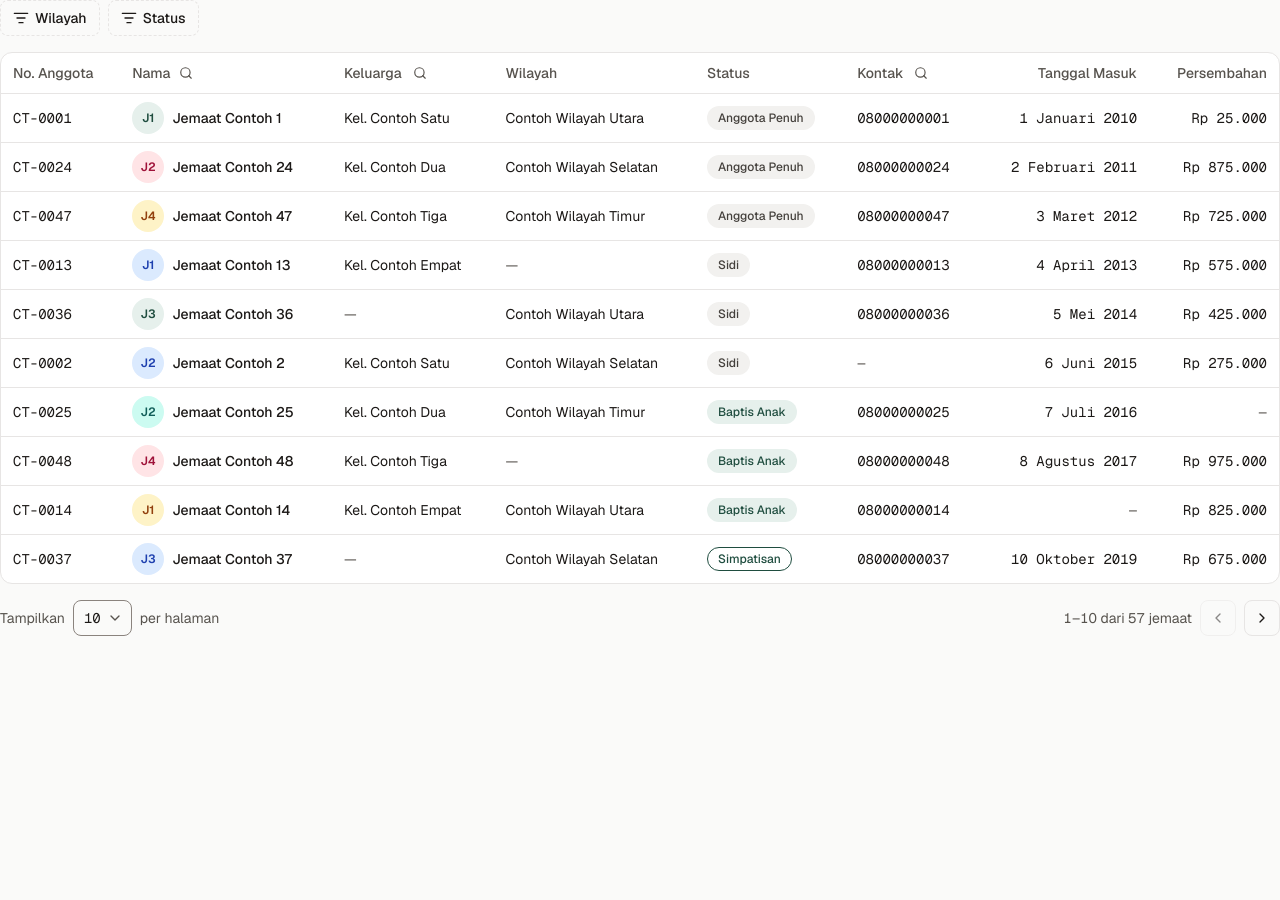
it: filters › says when filters hide every row, and resets from there
Click the button named "Cari Nama".
click(186, 73)  # box [172,59,200,87]
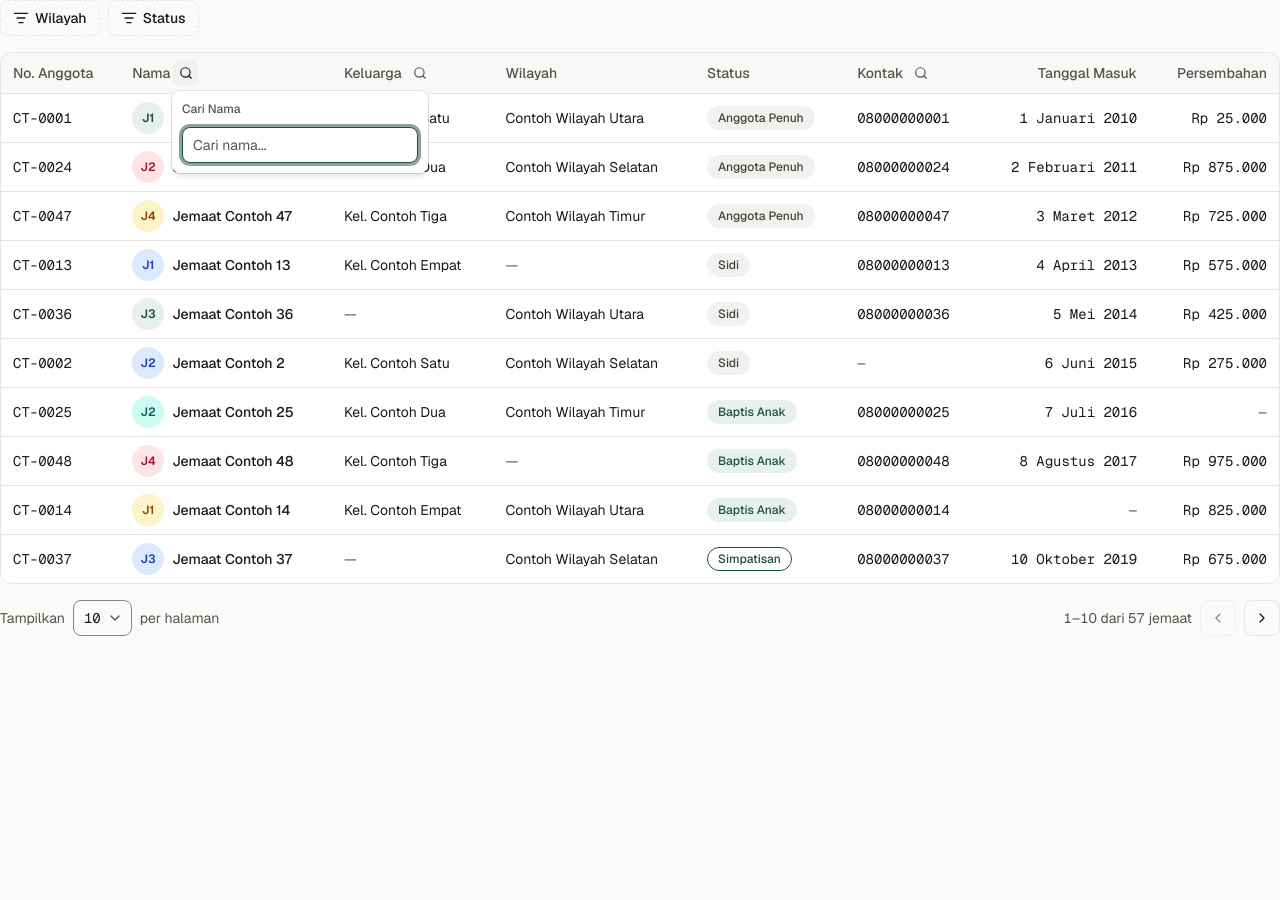
Type "tidak ada yang cocok" into the search field labelled "Cari Nama".
click(300, 145); type("tidak ada yang cocok")  # box [182,127,418,163]
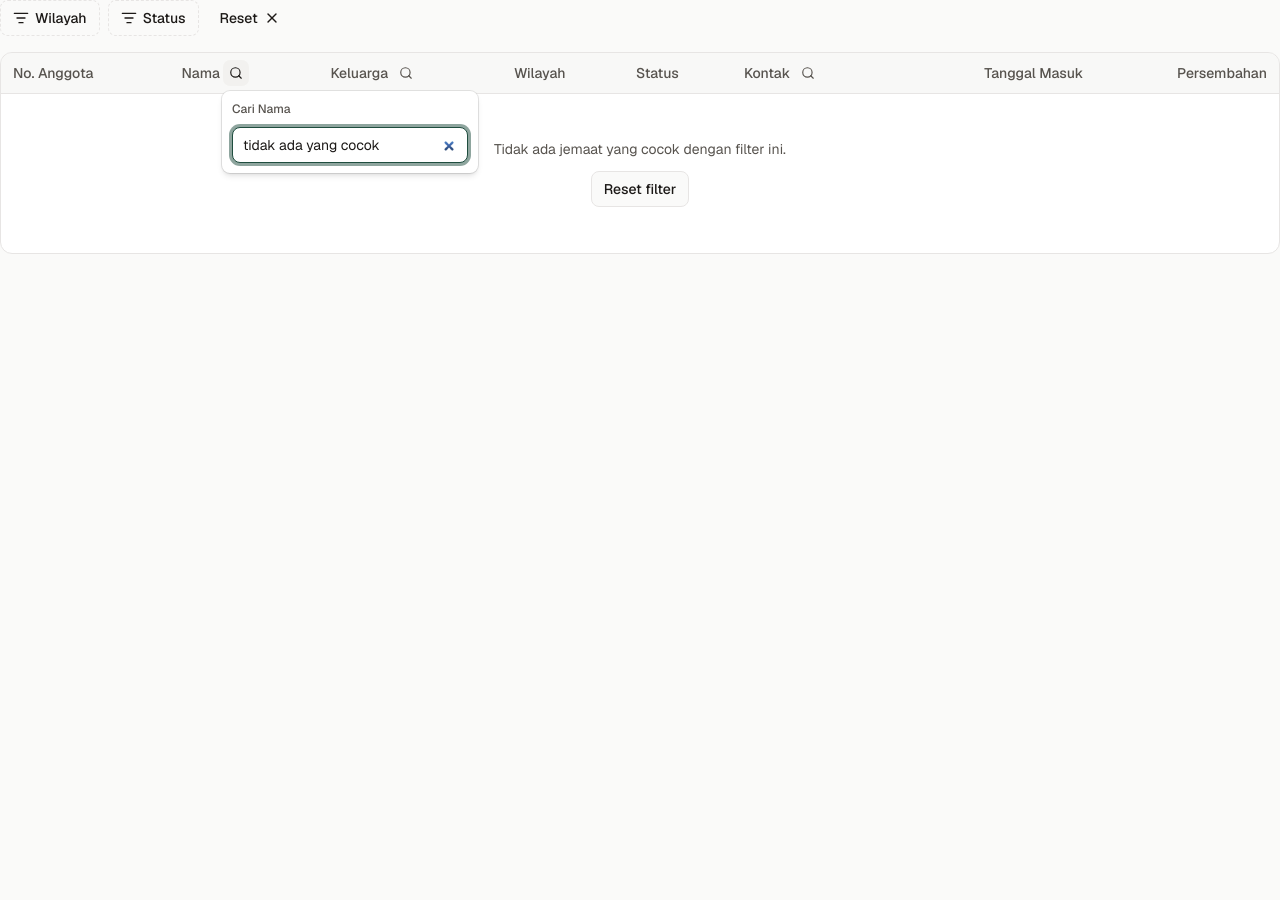
Press Enter
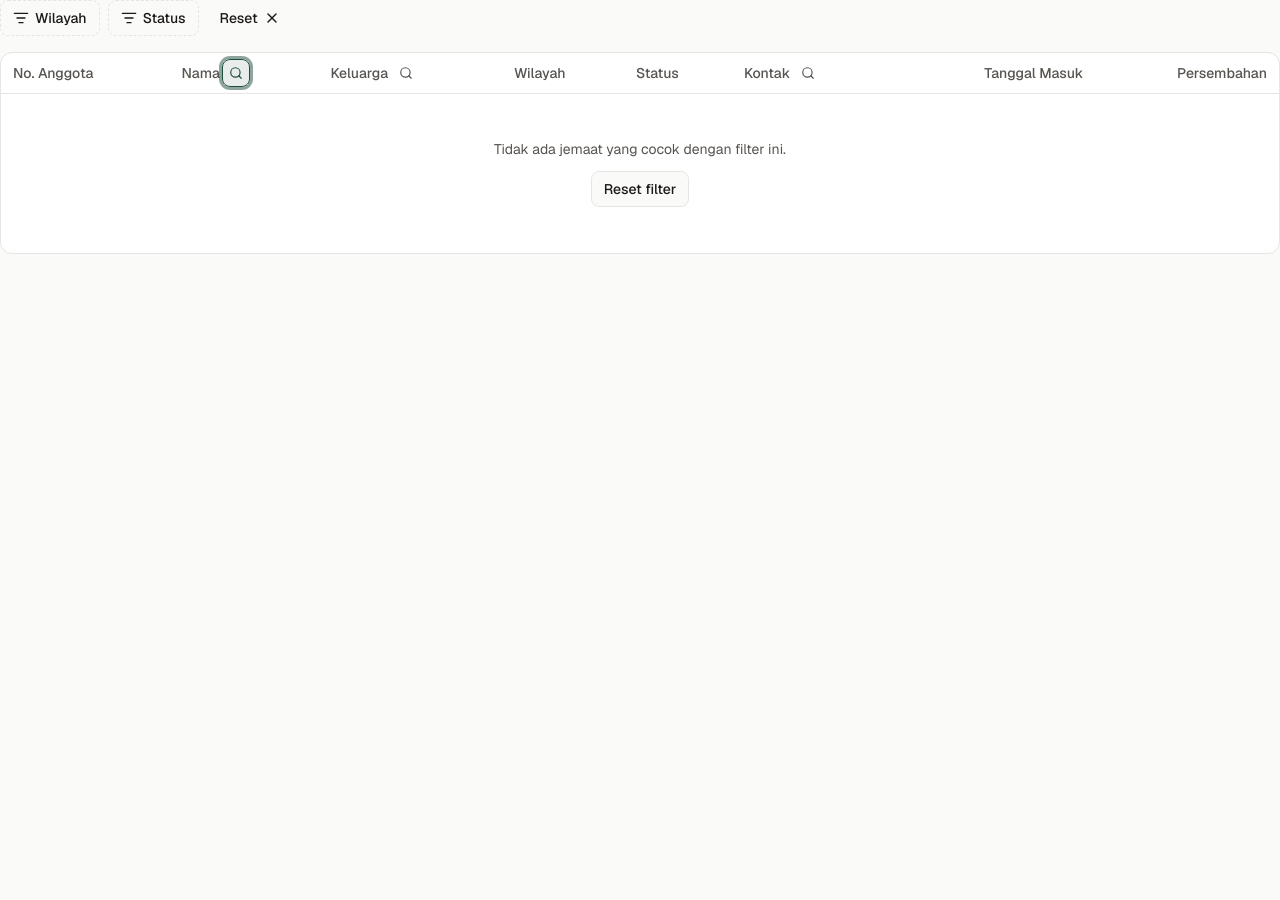
Expected: the text "Tidak ada jemaat yang cocok dengan filter ini." is shown, [494,139,786,159]
Click the button "Reset filter".
click(640, 189)  # box [591,171,689,207]
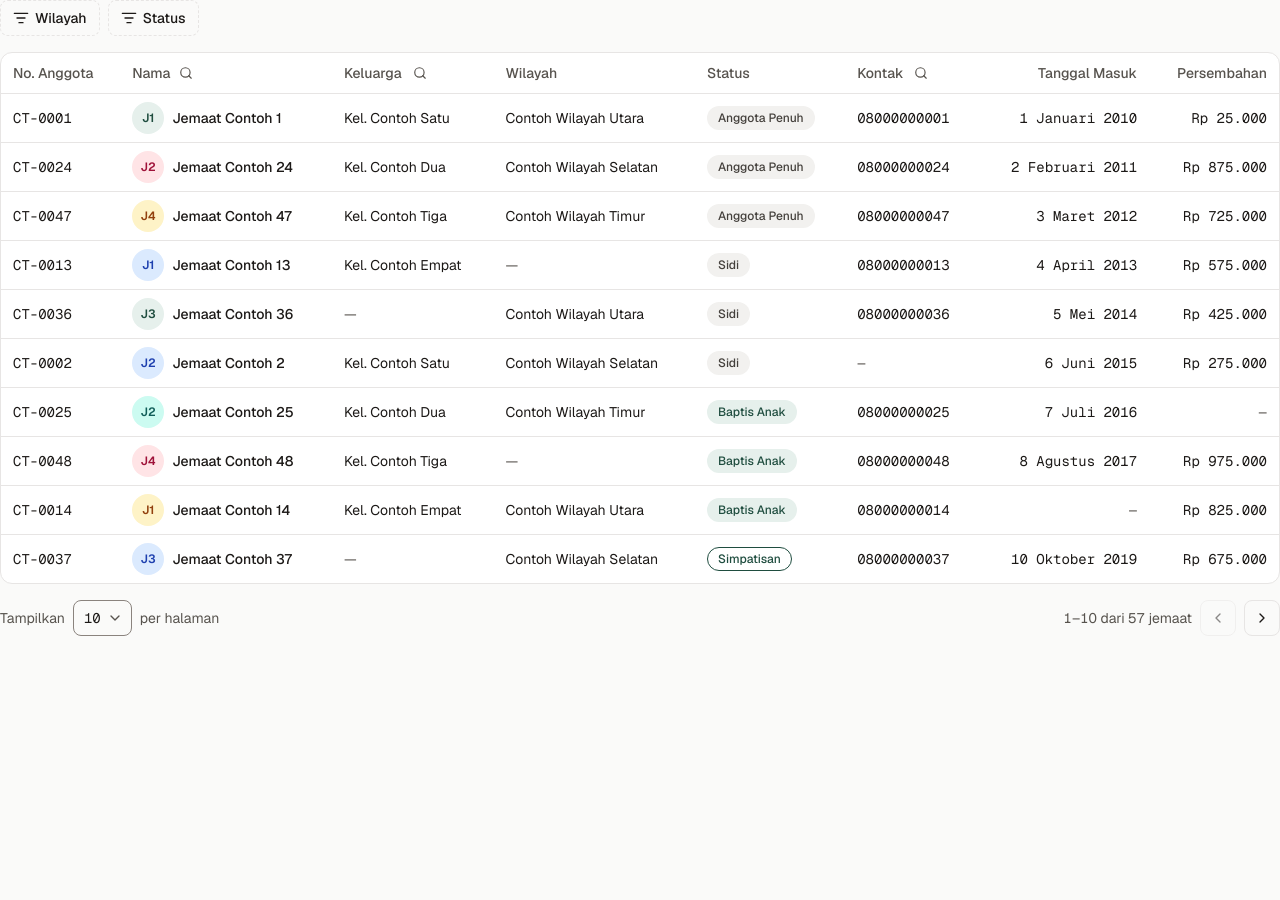
Expected: the text "1–10 dari 57 jemaat" is shown, [1064,608,1192,628]
